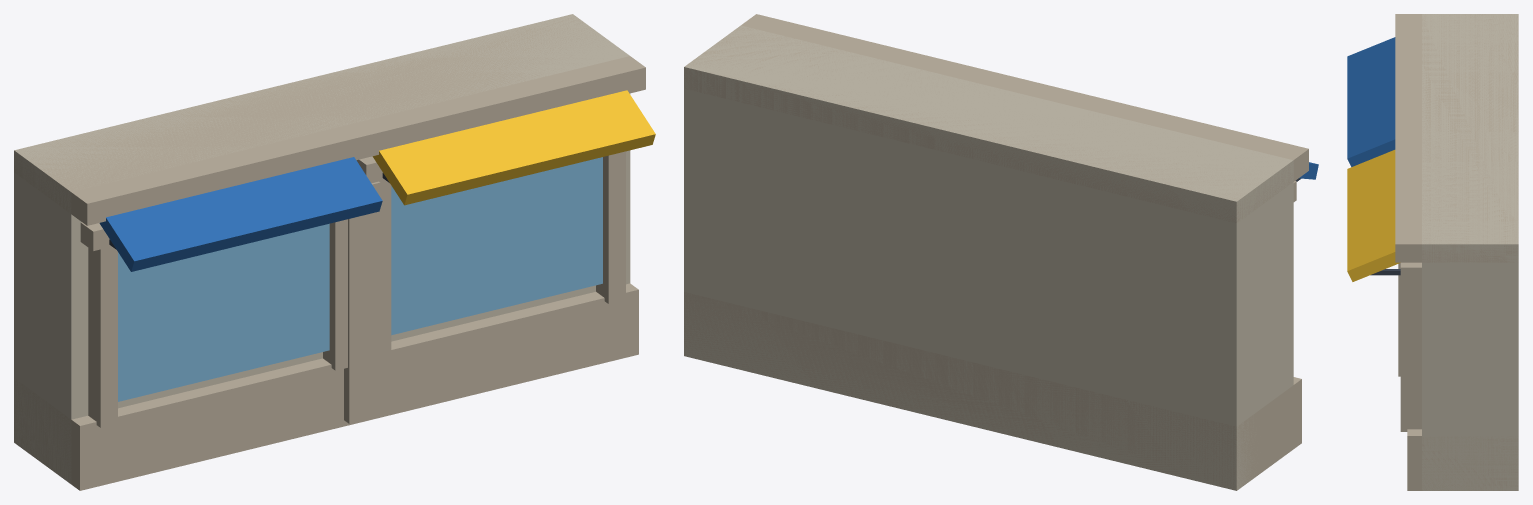
File: cittaCremaBaseB.glb
The picture shows the model from 3 angles, left to right: view 1: azimuth 30°, elevation 25°; view 2: azimuth 150°, elevation 25°; view 3: azimuth 270°, elevation 25°; orthographic projection. The views are drawn at different scales.
Visible parts, largest first — view 1: cittaCremaBaseB_stone, cittaCremaBaseB_glass, cittaCremaBaseB_cittaCrema, cittaCremaBaseB_yellow, cittaCremaBaseB_blue; view 2: cittaCremaBaseB_cittaCrema, cittaCremaBaseB_stone; view 3: cittaCremaBaseB_cittaCrema, cittaCremaBaseB_stone, cittaCremaBaseB_yellow, cittaCremaBaseB_blue.
Boxes of the visible parts, x1,y1,x2,y2 form: cittaCremaBaseB_stone: (14, 14, 645, 490); cittaCremaBaseB_glass: (118, 157, 602, 401); cittaCremaBaseB_cittaCrema: (14, 14, 630, 483); cittaCremaBaseB_yellow: (372, 90, 655, 205); cittaCremaBaseB_blue: (99, 157, 382, 271); cittaCremaBaseB_cittaCrema: (684, 26, 1293, 490); cittaCremaBaseB_stone: (684, 14, 1308, 490); cittaCremaBaseB_cittaCrema: (1422, 14, 1518, 490); cittaCremaBaseB_stone: (1395, 14, 1518, 490); cittaCremaBaseB_yellow: (1347, 150, 1400, 281); cittaCremaBaseB_blue: (1347, 37, 1395, 166).
Bounding box in the file's own units: 9 × 4.5 × 2.84.
